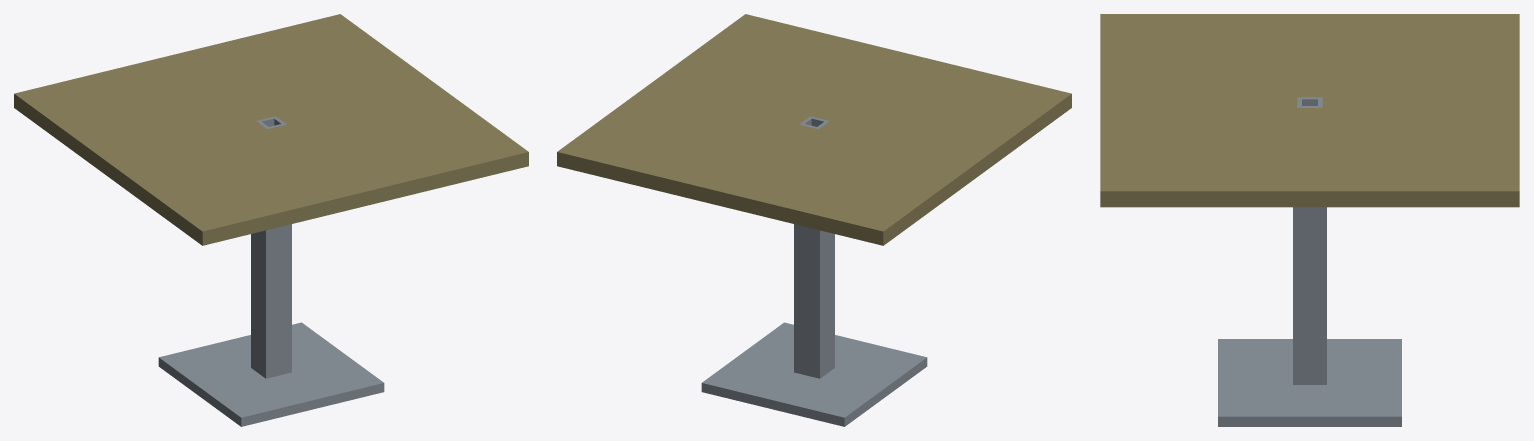
Rendered from table.fbx.
3 renders of one model, left to right at view 1: azimuth 30°, elevation 25°; view 2: azimuth 150°, elevation 25°; view 3: azimuth 270°, elevation 25°, orthographic. The views are drawn at different scales.
Visible parts, largest first — view 1: table; view 2: table; view 3: table.
Boxes of the visible parts, bbox=[...] form: table: bbox=[14, 14, 528, 426]; table: bbox=[557, 14, 1071, 426]; table: bbox=[1100, 14, 1519, 426].
Bounding box in the file's own units: 96.89 × 72.78 × 96.89.
